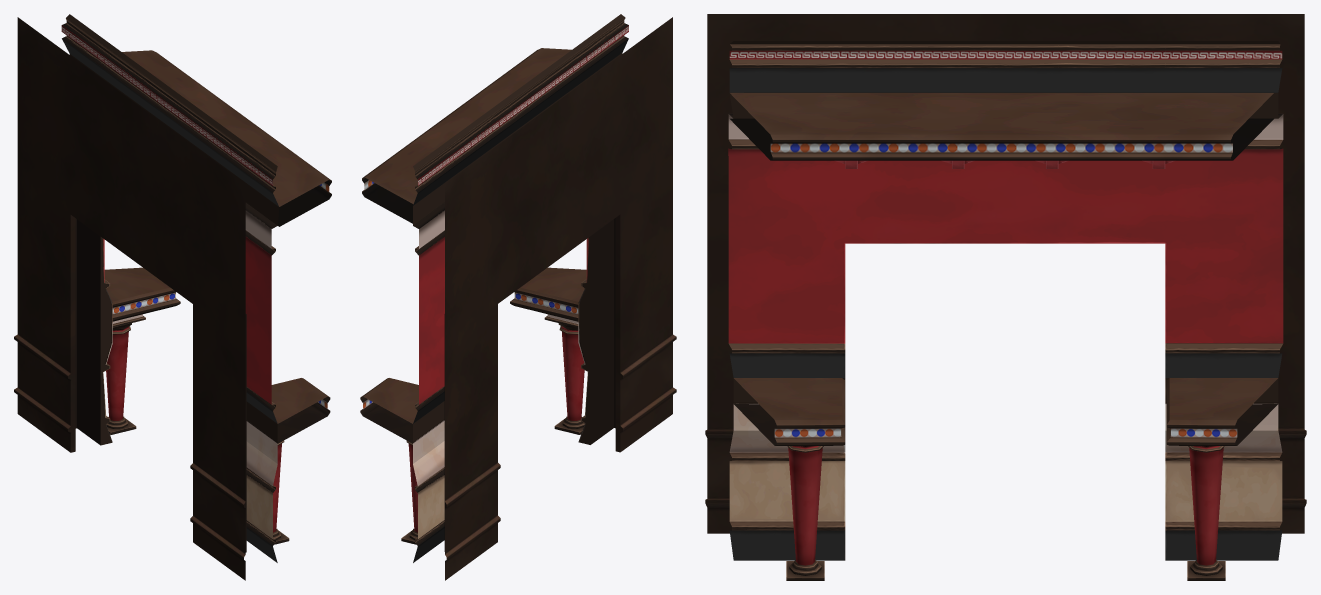
The model's file is em_wall_atrium_door_section.fbx.
The picture shows the model from 3 angles, left to right: view 1: azimuth 30°, elevation 25°; view 2: azimuth 150°, elevation 25°; view 3: azimuth 270°, elevation 25°; orthographic projection. The views are drawn at different scales.
Visible parts, largest first — view 1: polySurface178, em_wall_atrium_crossbeam1, em_wall_atrium_door_crossbeam1, em_wall_atrium_door_crossbeam2, polySurface167 (×2); view 2: polySurface178, em_wall_atrium_crossbeam1, em_wall_atrium_door_crossbeam2, em_wall_atrium_door_crossbeam1, polySurface167 (×2); view 3: polySurface178, em_wall_atrium_crossbeam1, polySurface167 (×2), em_wall_atrium_door_crossbeam2, em_wall_atrium_door_crossbeam1.
Boxes of the visible parts, bbox=[...] form: polySurface178: bbox=[14, 14, 279, 580]; em_wall_atrium_crossbeam1: bbox=[122, 50, 331, 226]; em_wall_atrium_door_crossbeam1: bbox=[104, 267, 180, 321]; em_wall_atrium_door_crossbeam2: bbox=[271, 378, 330, 443]; polySurface167 (×2): bbox=[106, 323, 284, 539]; polySurface178: bbox=[413, 14, 676, 580]; em_wall_atrium_crossbeam1: bbox=[362, 48, 571, 223]; em_wall_atrium_door_crossbeam2: bbox=[510, 267, 586, 321]; em_wall_atrium_door_crossbeam1: bbox=[360, 378, 418, 443]; polySurface167 (×2): bbox=[406, 323, 584, 539]; polySurface178: bbox=[705, 14, 1306, 560]; em_wall_atrium_crossbeam1: bbox=[730, 93, 1273, 160]; polySurface167 (×2): bbox=[787, 446, 1224, 575]; em_wall_atrium_door_crossbeam2: bbox=[734, 378, 845, 445]; em_wall_atrium_door_crossbeam1: bbox=[1166, 378, 1277, 445].
Size of the model in its own units: 6 by 20.01 by 20.98.
